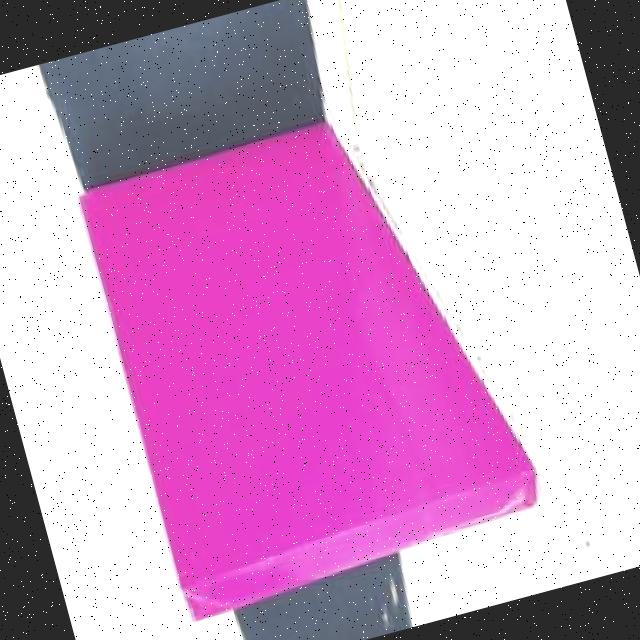xparking: (83, 115, 474, 600)
